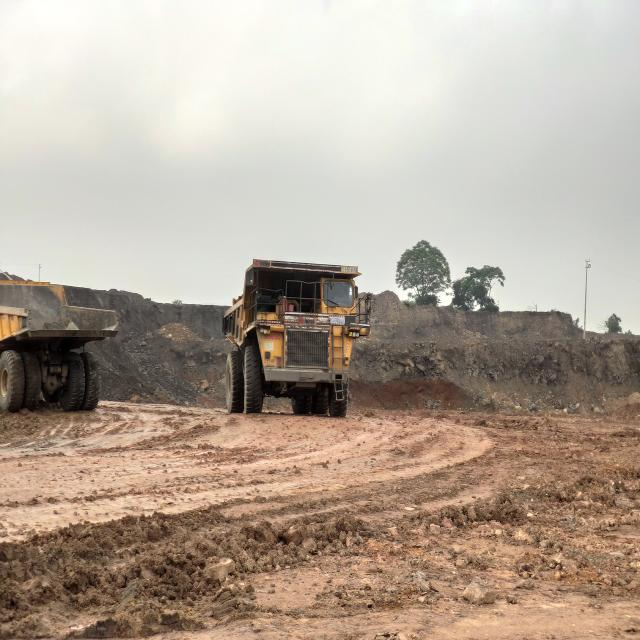dump_truck: (223, 261, 372, 418), (0, 280, 119, 414)
